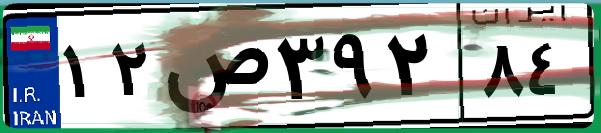1: (57, 26, 110, 100)
2: (385, 28, 445, 110), (110, 28, 158, 98)
3: (270, 28, 330, 110)
4: (525, 38, 570, 115)
8: (475, 38, 525, 113)
9: (330, 28, 385, 110)
ص: (158, 20, 270, 120)
